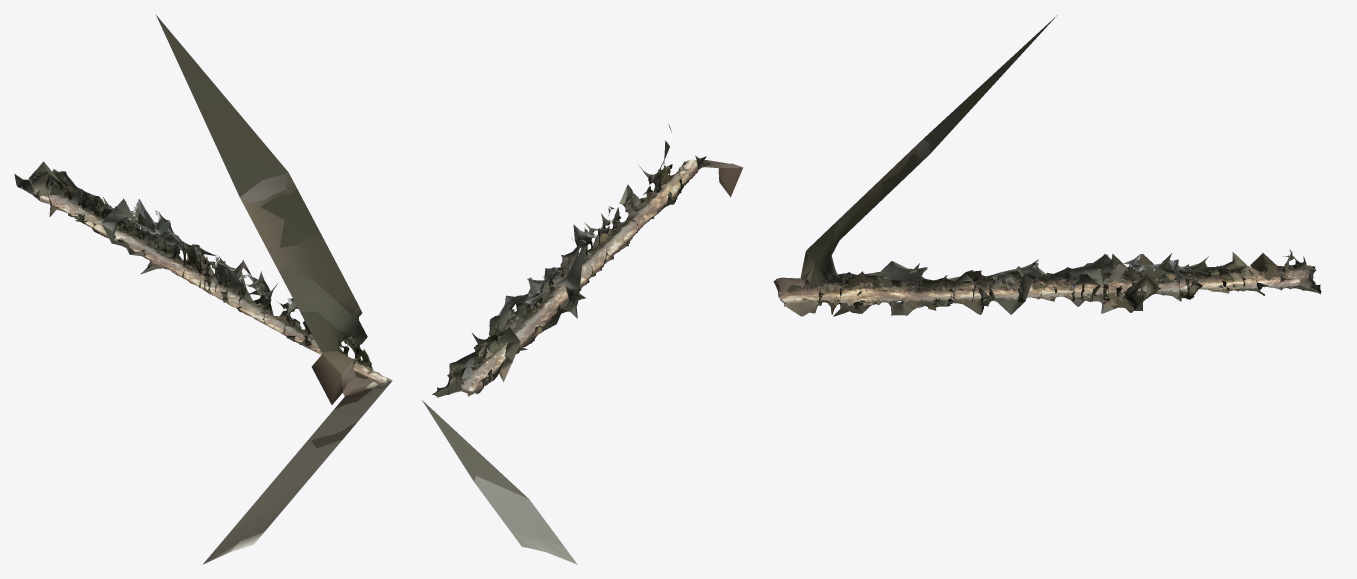
The picture shows the model from 3 angles, left to right: view 1: azimuth 30°, elevation 25°; view 2: azimuth 150°, elevation 25°; view 3: azimuth 270°, elevation 25°; orthographic projection. The views are drawn at different scales.
Visible parts, largest first — view 1: Mesh_0_Part_0.003; view 2: Mesh_0_Part_0.003; view 3: Mesh_0_Part_0.003.
Boxes of the visible parts, box(x1,y1,x2,y2) form: Mesh_0_Part_0.003: box(14, 15, 392, 564); Mesh_0_Part_0.003: box(422, 124, 743, 564); Mesh_0_Part_0.003: box(773, 15, 1321, 316).
Bounding box in the file's own units: 0.2092 × 1.14 × 1.15.
1 material, 1 textured.
